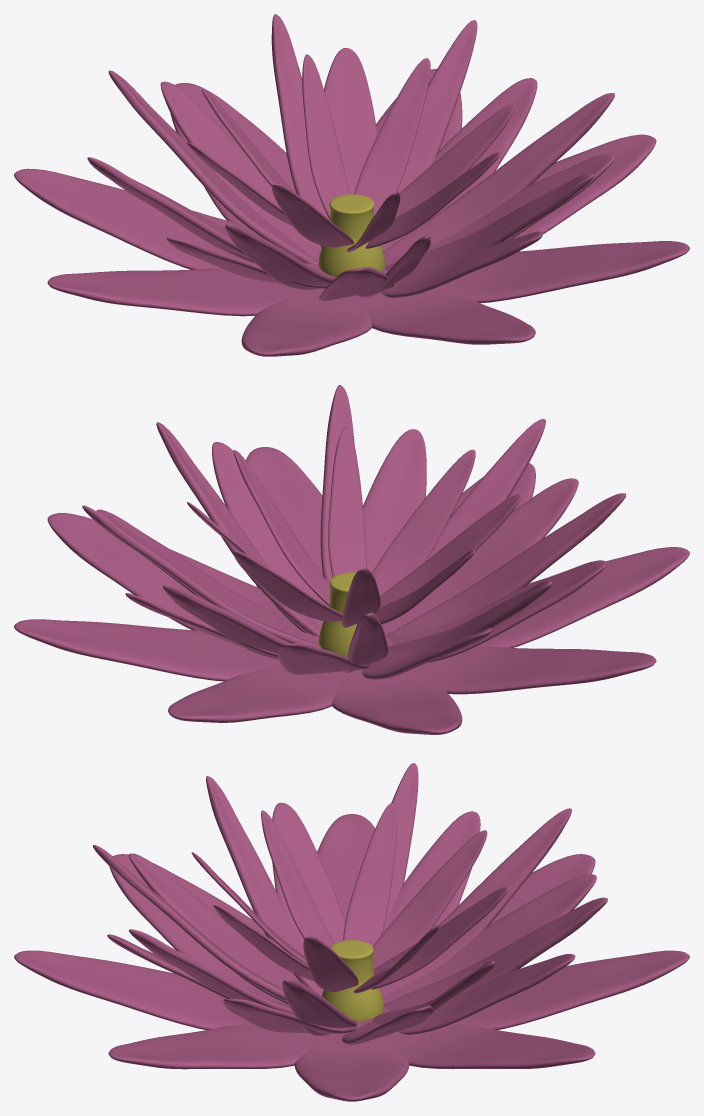
Rendered from lotus.fbx.
The picture shows the model from 3 angles, top to bottom: view 1: azimuth 30°, elevation 25°; view 2: azimuth 150°, elevation 25°; view 3: azimuth 270°, elevation 25°; orthographic projection. The views are drawn at different scales.
Parts seen in each view (by area): view 1: pPlane34; view 2: pPlane34; view 3: pPlane34.
Boxes of the visible parts, left/top/right/bottom form: pPlane34: left=14, top=14, right=689, bottom=356; pPlane34: left=14, top=385, right=689, bottom=734; pPlane34: left=14, top=763, right=689, bottom=1101.
Bounding box in the file's own units: 1.54 × 0.3873 × 1.54.
